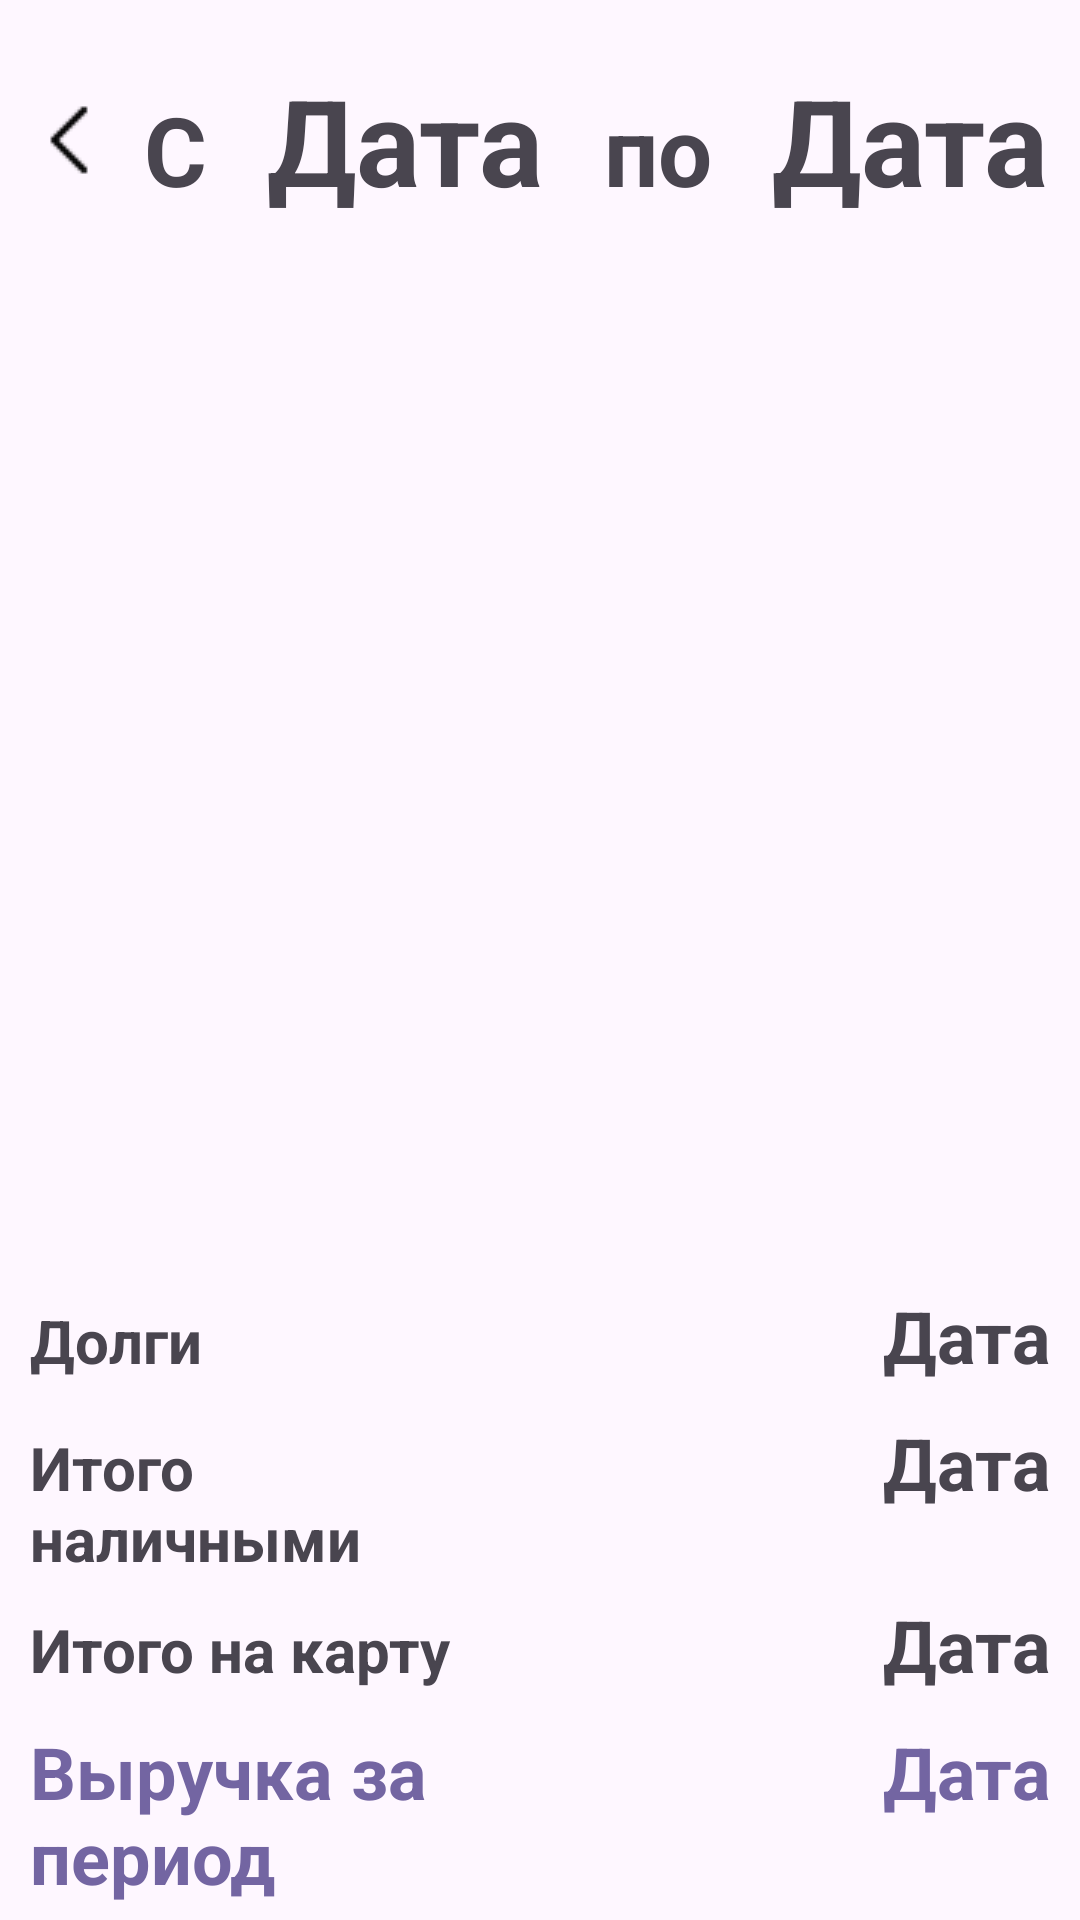

Icon bounding boxes for this 1080px×1920px phone screenshot, format region(x1, y1, x2, y2):
back: region(50, 106, 88, 174)
